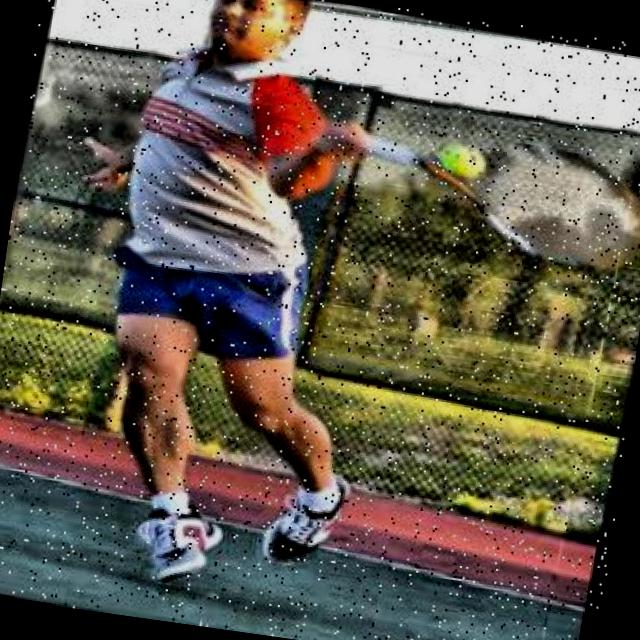Tennis Ball: (434, 138, 488, 180)
